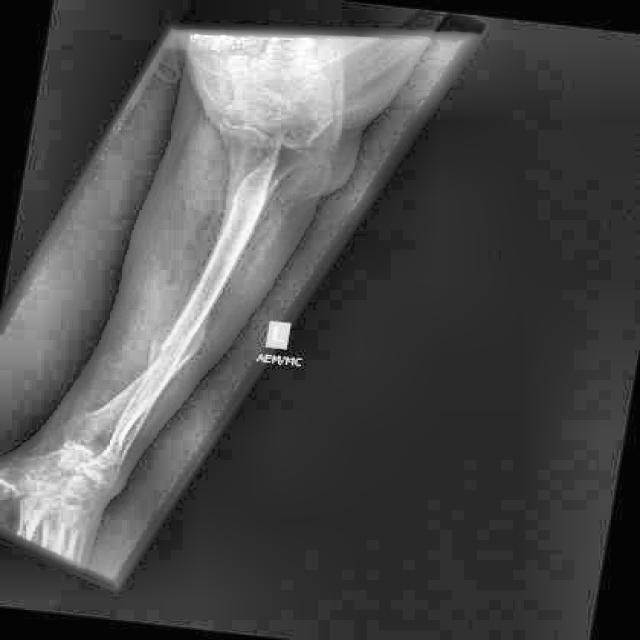forearm fracture: (122, 298, 225, 389)
